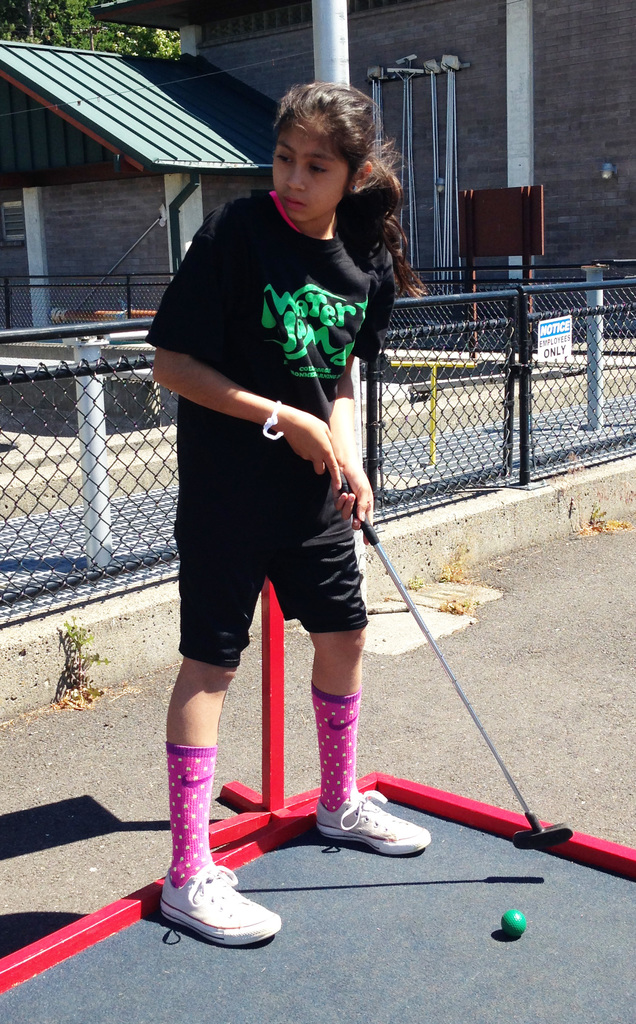Person: (145, 82, 428, 945)
